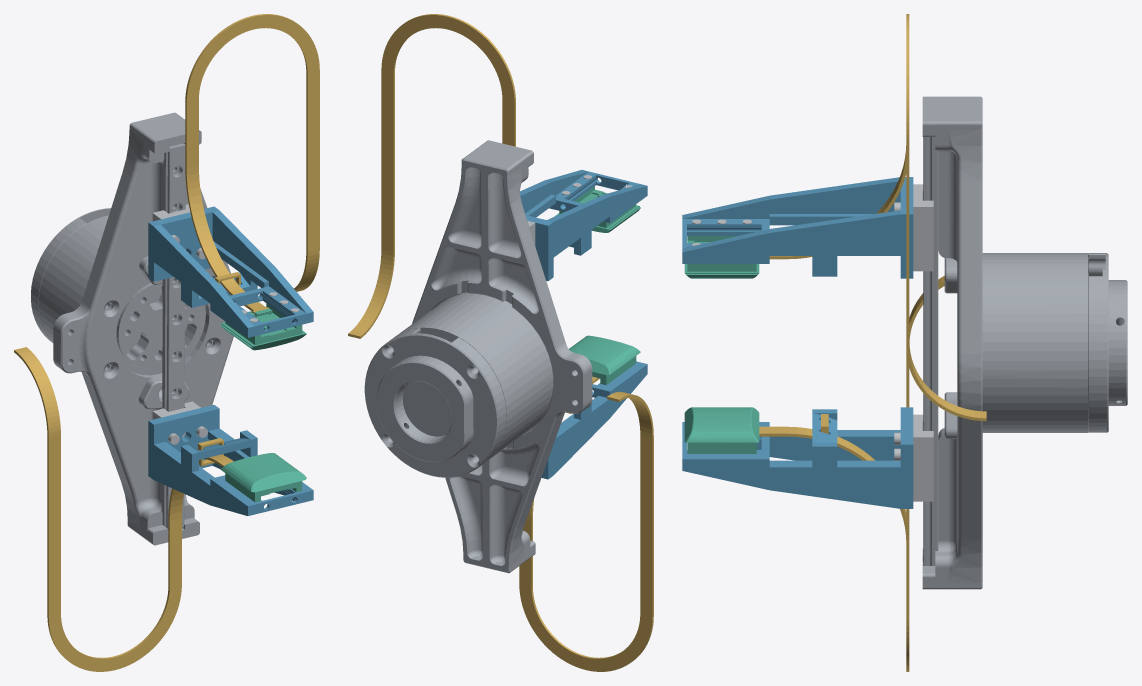
The model's file is assembly_open50_cable_study.glb.
3 renders of one model, left to right at view 1: azimuth 30°, elevation 25°; view 2: azimuth 150°, elevation 25°; view 3: azimuth 270°, elevation 25°, orthographic. The views are drawn at different scales.
Parts seen in each view (by area): view 1: original_actuator_and_transmission, replacement_finger_2, replacement_finger_1, service_loop_envelope_1, service_loop_envelope_2, M2324_1, moving_harness_envelope_2, M2324_2, moving_harness_envelope_1; view 2: original_actuator_and_transmission, service_loop_envelope_2, replacement_finger_2, service_loop_envelope_1, replacement_finger_1, M2324_1, M2324_2; view 3: original_actuator_and_transmission, replacement_finger_2, replacement_finger_1, M2324_1, service_loop_envelope_2, retained_carrier_2, retained_carrier_1, M2324_2, moving_harness_envelope_1, service_loop_envelope_1.
Part boxes in pixels (box(x1,y1,x2,y2)): original_actuator_and_transmission: box(31, 112, 233, 545); replacement_finger_2: box(148, 206, 313, 337); replacement_finger_1: box(148, 405, 313, 515); service_loop_envelope_1: box(14, 347, 181, 671); service_loop_envelope_2: box(185, 14, 319, 291); M2324_1: box(221, 453, 306, 502); moving_harness_envelope_2: box(185, 166, 265, 311); M2324_2: box(220, 303, 306, 350); moving_harness_envelope_1: box(168, 454, 233, 520); original_actuator_and_transmission: box(364, 140, 592, 573); service_loop_envelope_2: box(348, 14, 515, 338); replacement_finger_2: box(520, 170, 647, 280); service_loop_envelope_1: box(519, 391, 653, 671); replacement_finger_1: box(541, 361, 647, 479); M2324_1: box(569, 335, 640, 384); M2324_2: box(555, 186, 640, 232); original_actuator_and_transmission: box(922, 96, 1127, 589); replacement_finger_2: box(682, 177, 913, 278); replacement_finger_1: box(682, 407, 913, 508); M2324_1: box(684, 407, 759, 453); service_loop_envelope_2: box(906, 14, 986, 421); retained_carrier_2: box(913, 184, 933, 271); retained_carrier_1: box(913, 414, 933, 501); M2324_2: box(684, 236, 759, 278); moving_harness_envelope_1: box(759, 426, 909, 543); service_loop_envelope_1: box(906, 276, 944, 671).
Size of the model in its own units: 0.1152 by 0.2516 by 0.1412.
